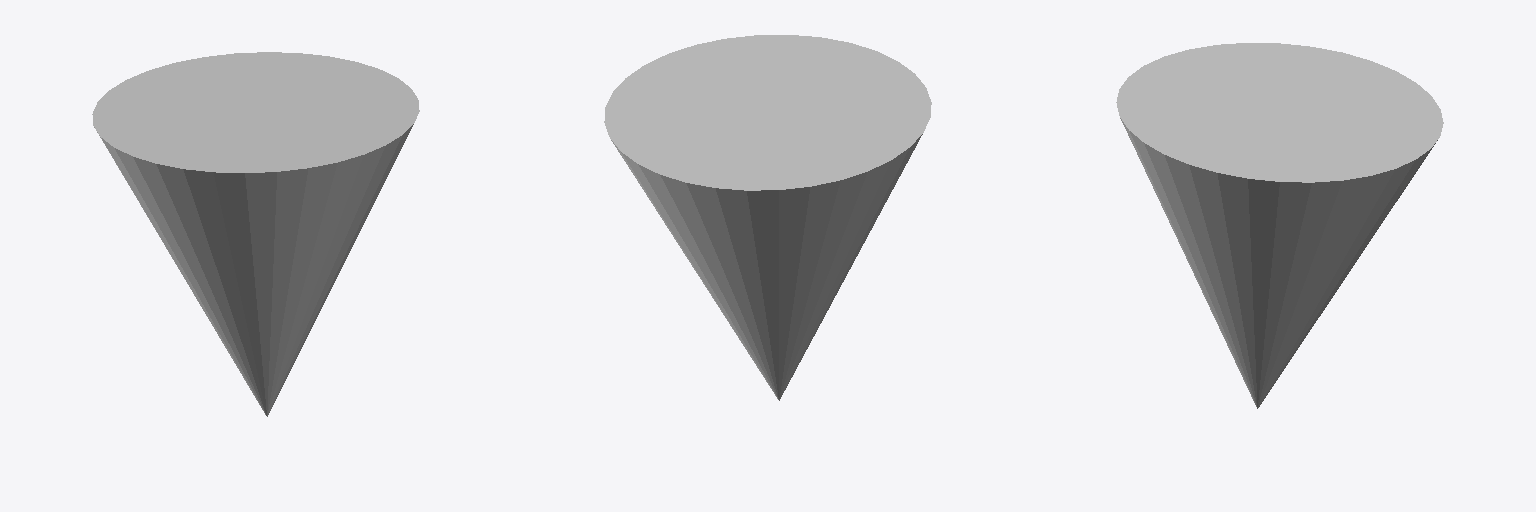
Rendered from normal_test.obj.
The picture shows the model from 3 angles: view 1: azimuth 30°, elevation 25°; view 2: azimuth 150°, elevation 25°; view 3: azimuth 270°, elevation 25°; orthographic projection.
Visible parts, largest first — view 1: Cone.002; view 2: Cone.002; view 3: Cone.002.
Part boxes in pixels (left/top/right/bottom): Cone.002: left=92, top=52, right=419, bottom=416; Cone.002: left=604, top=35, right=931, bottom=400; Cone.002: left=1116, top=43, right=1443, bottom=408.
Size of the model in its own units: 2 by 2.06 by 2.